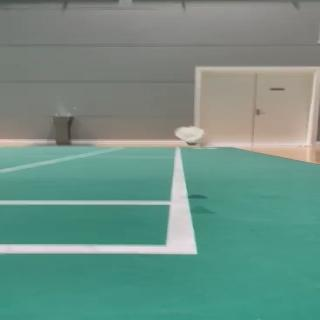Shuttle: (173, 126, 204, 146)
